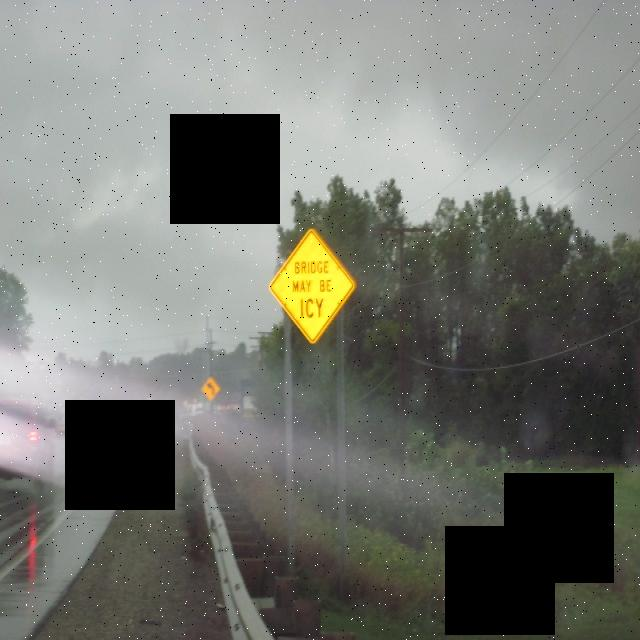warning: (266, 216, 361, 352), (200, 368, 222, 406)
